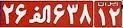character: (28, 1, 53, 28), (14, 1, 29, 28), (52, 1, 66, 28), (66, 1, 80, 28), (79, 1, 93, 28), (1, 1, 15, 27), (108, 7, 122, 28), (97, 7, 109, 28)
